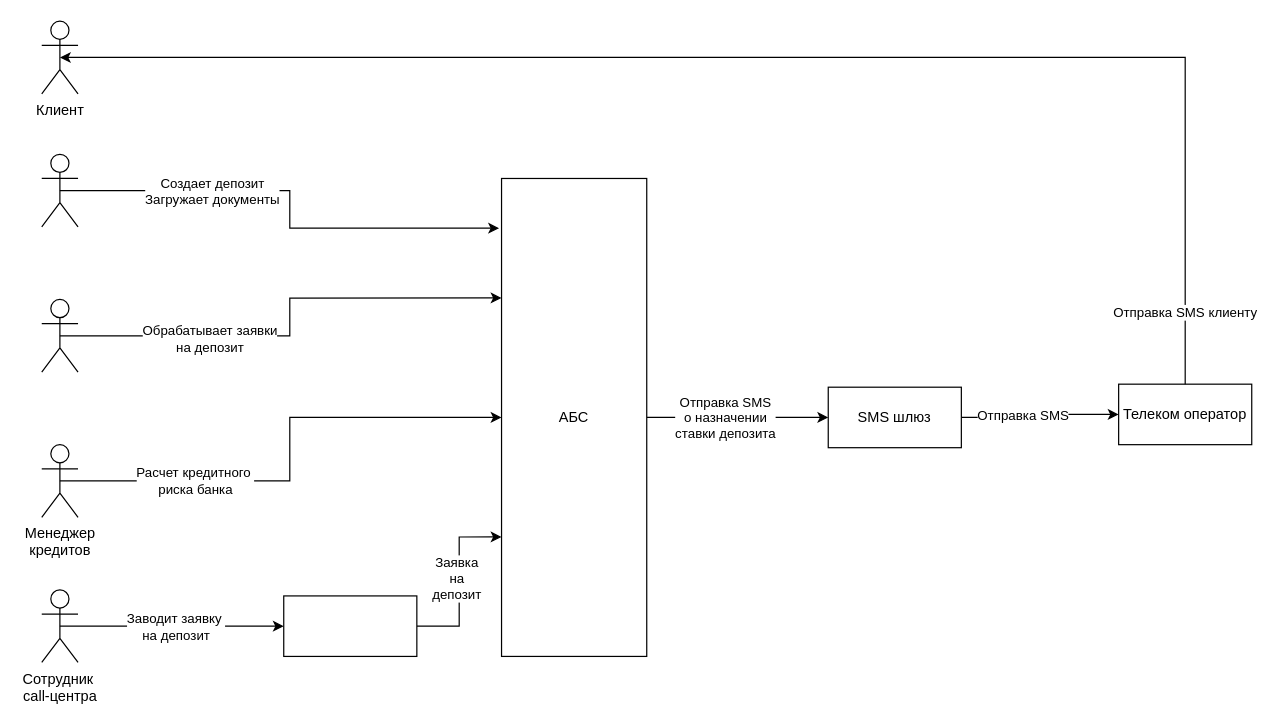
Some shapes in this 1278 by 727 pixel diagram are drawn without their labels. Each missing label, with the centre of its shape:
"Менеджер front-офиса" goes at [59,190].
"Менеджер депозитов" goes at [59,335].
"Система кол-центра" goes at [350,625].
